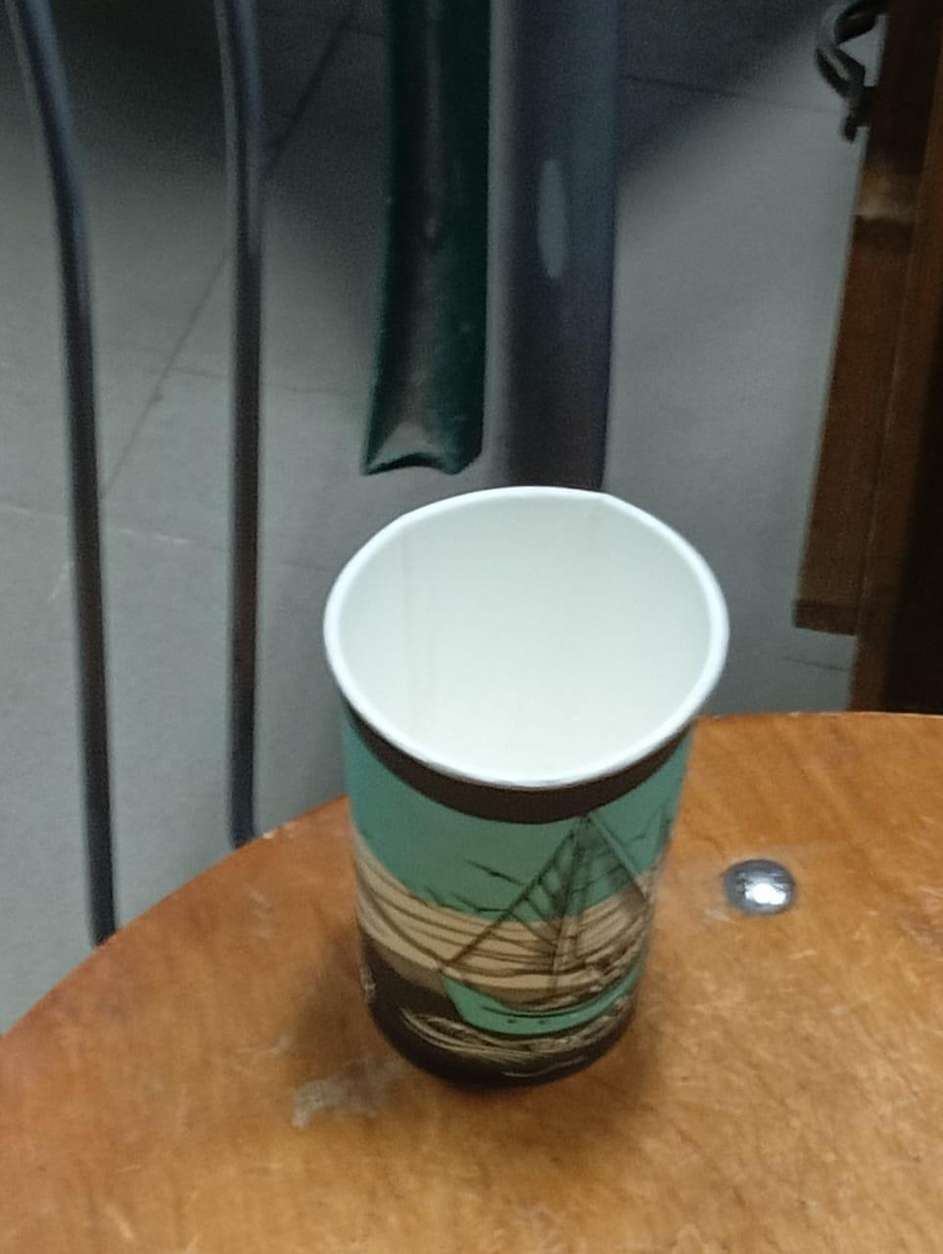cup: (325, 487, 727, 1083)
